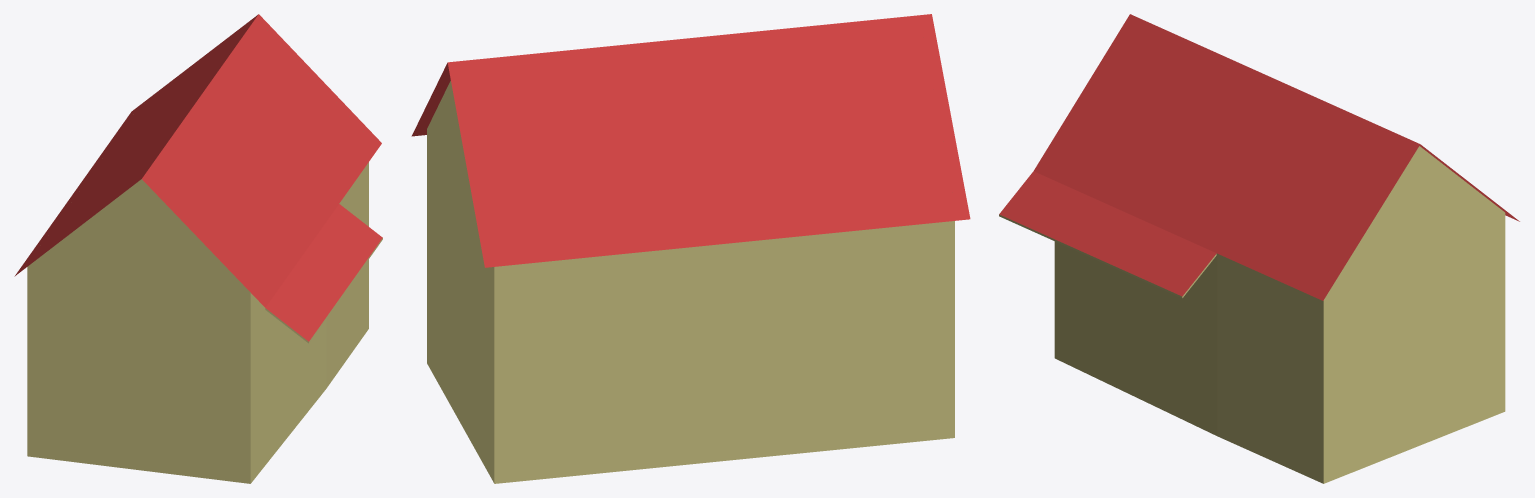
The picture shows the model from 3 angles, left to right: view 1: azimuth 30°, elevation 25°; view 2: azimuth 150°, elevation 25°; view 3: azimuth 270°, elevation 25°; orthographic projection. The views are drawn at different scales.
Bounding box in the file's own units: 22.71 × 23.93 × 15.56.
